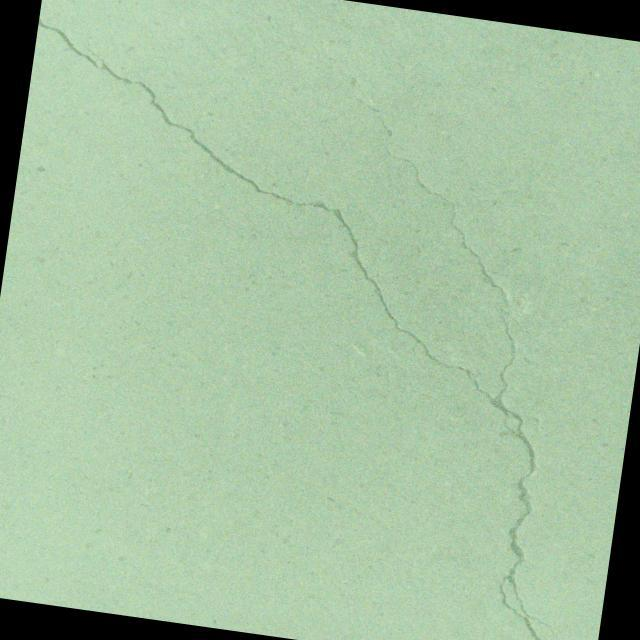crack: (0, 19, 640, 640), (294, 43, 416, 148), (241, 0, 292, 37), (546, 304, 602, 326)
